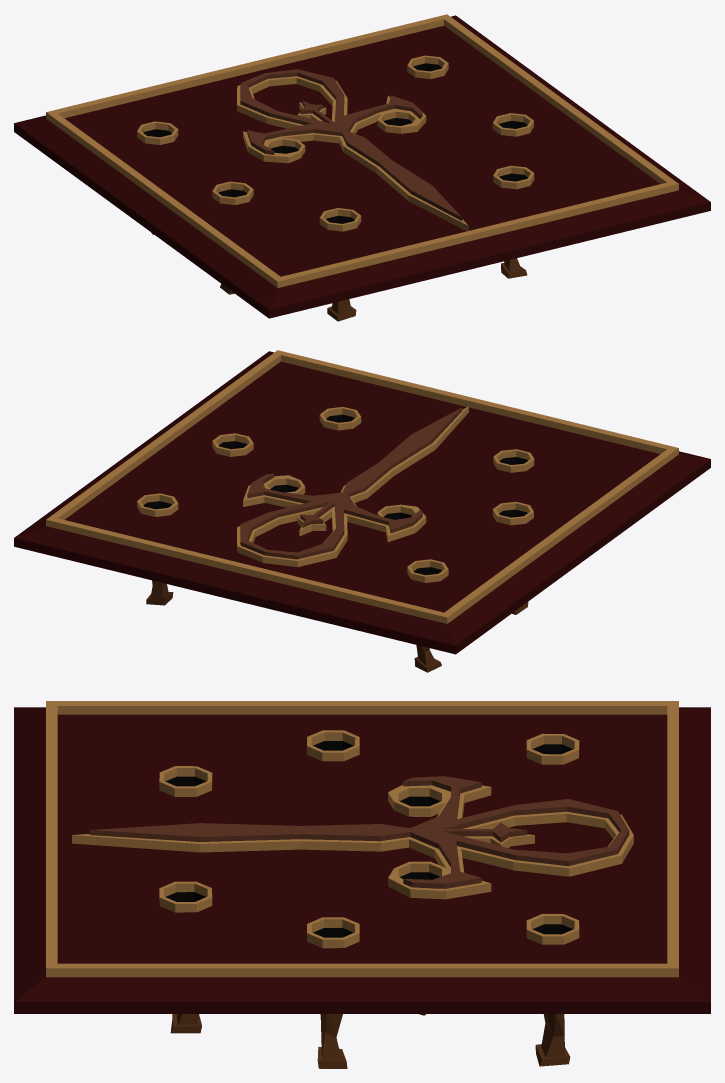
File: stake_trap.fbx
The picture shows the model from 3 angles, top to bottom: view 1: azimuth 30°, elevation 25°; view 2: azimuth 150°, elevation 25°; view 3: azimuth 270°, elevation 25°; orthographic projection. The views are drawn at different scales.
Visible parts, largest first — view 1: Trap, Stakes; view 2: Trap, Stakes; view 3: Trap, Stakes.
Boxes of the visible parts, left/top/right/bottom form: Trap: left=14, top=14, right=710, bottom=318; Stakes: left=151, top=232, right=527, bottom=321; Trap: left=14, top=350, right=710, bottom=654; Stakes: left=146, top=580, right=528, bottom=672; Trap: left=14, top=701, right=710, bottom=1013; Stakes: left=170, top=1014, right=570, bottom=1068.
Bounding box in the file's own units: 505 × 112 × 505.
